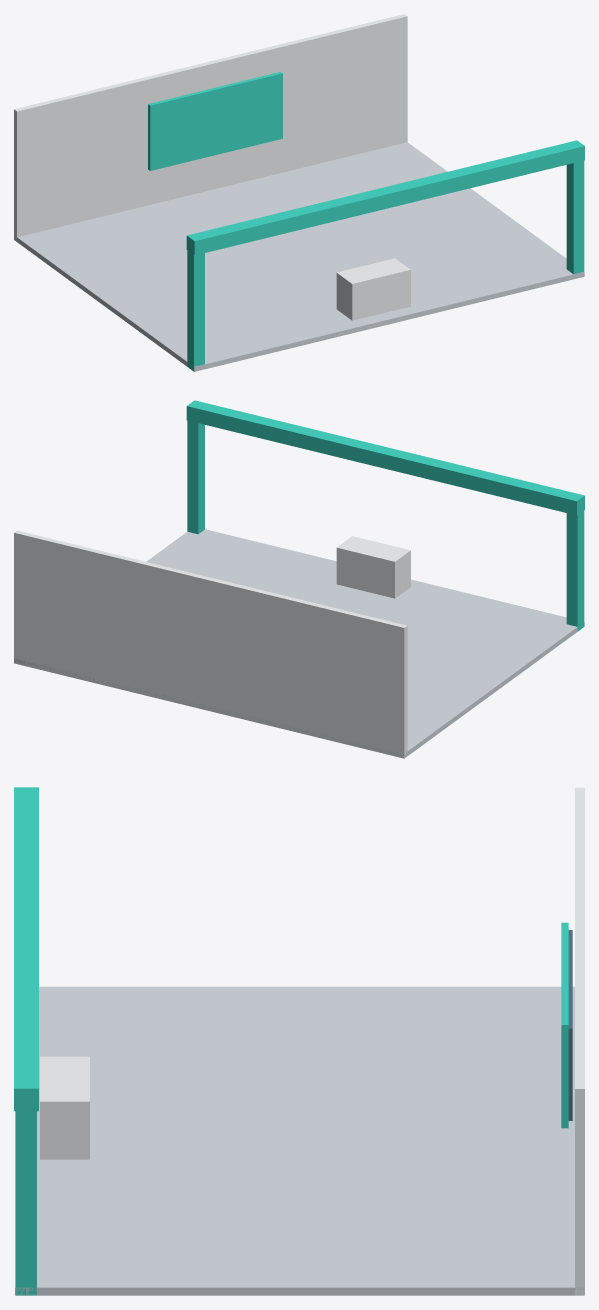
3 renders of one model, top to bottom at view 1: azimuth 30°, elevation 25°; view 2: azimuth 150°, elevation 25°; view 3: azimuth 270°, elevation 25°, orthographic. The views are drawn at different scales.
Visible parts, largest first — view 1: Exhibition Booth Concept; view 2: Exhibition Booth Concept; view 3: Exhibition Booth Concept.
Boxes of the visible parts, x1,y1,x2,y2 form: Exhibition Booth Concept: [14, 14, 584, 371]; Exhibition Booth Concept: [14, 400, 584, 758]; Exhibition Booth Concept: [14, 787, 584, 1295].
Bounding box in the file's own units: 10 × 3.2 × 8.01.
